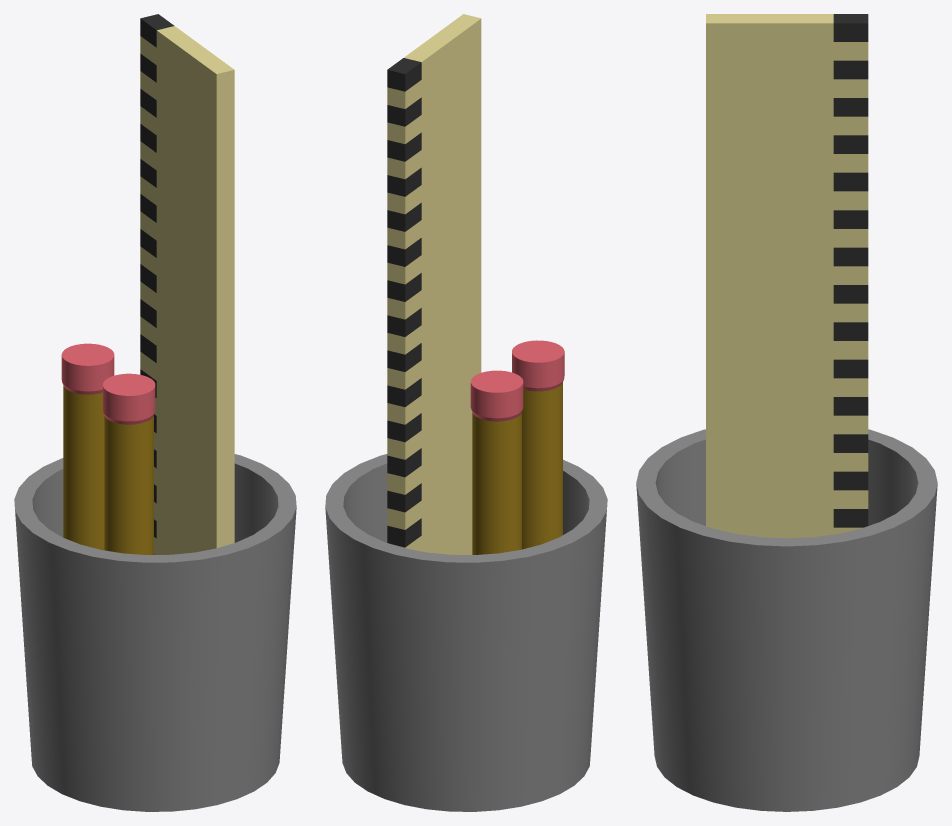
The model's file is Cup with items.fbx.
3 views of the same model, side by side, from view 1: azimuth 30°, elevation 25°; view 2: azimuth 150°, elevation 25°; view 3: azimuth 270°, elevation 25° (orthographic). The views are drawn at different scales.
Parts seen in each view (by area): view 1: Cylinder.001, Cube.008, Cylinder.006, Cylinder.005; view 2: Cylinder.001, Cube.008, Cylinder.005, Cylinder.006; view 3: Cylinder.001, Cube.008.
Boxes of the visible parts, <box> form: Cylinder.001: <box>14,454,296,811</box>; Cube.008: <box>140,14,234,554</box>; Cylinder.006: <box>103,373,155,554</box>; Cylinder.005: <box>61,343,114,550</box>; Cylinder.001: <box>325,454,607,811</box>; Cube.008: <box>387,14,481,554</box>; Cylinder.005: <box>470,370,523,554</box>; Cylinder.006: <box>512,340,564,549</box>; Cylinder.001: <box>636,429,937,811</box>; Cube.008: <box>706,14,868,538</box>.
Bounding box in the file's own units: 146 × 403 × 146.
